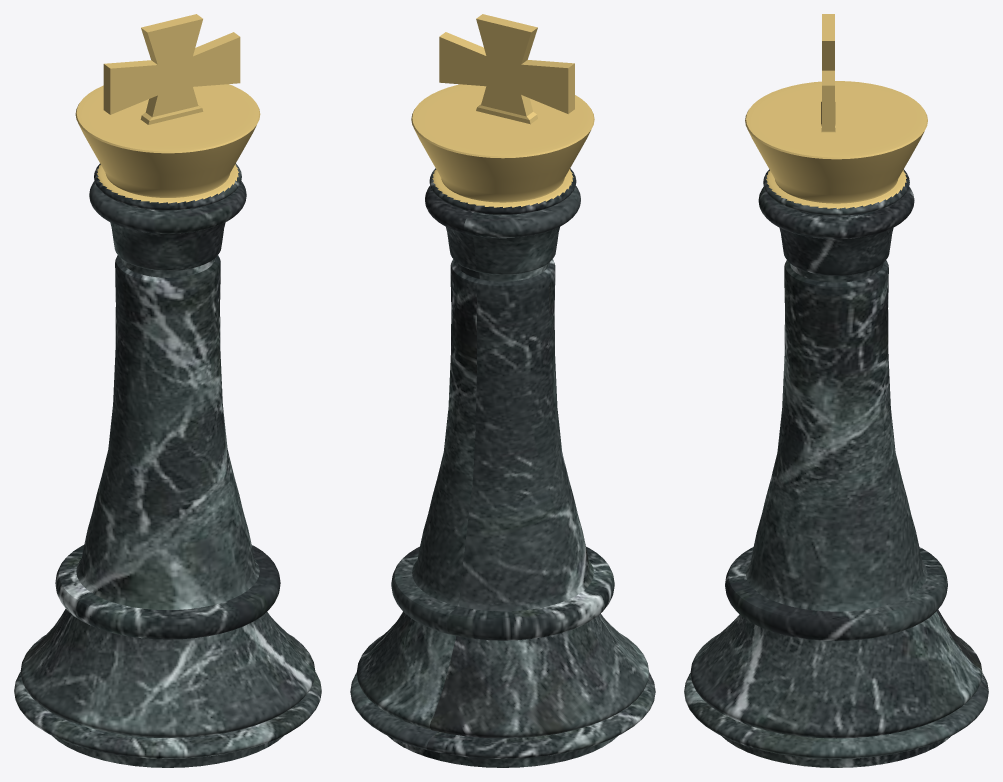
3 renders of one model, left to right at view 1: azimuth 30°, elevation 25°; view 2: azimuth 150°, elevation 25°; view 3: azimuth 270°, elevation 25°, orthographic.
Parts seen in each view (by area): view 1: x; view 2: x; view 3: x.
Boxes of the visible parts, box(x1,y1,x2,y2) form: x: box(14, 14, 321, 767); x: box(350, 14, 655, 767); x: box(684, 14, 988, 767).
Bounding box in the file's own units: 0.3612 × 0.9 × 0.3612.
2 materials, 1 textured.
